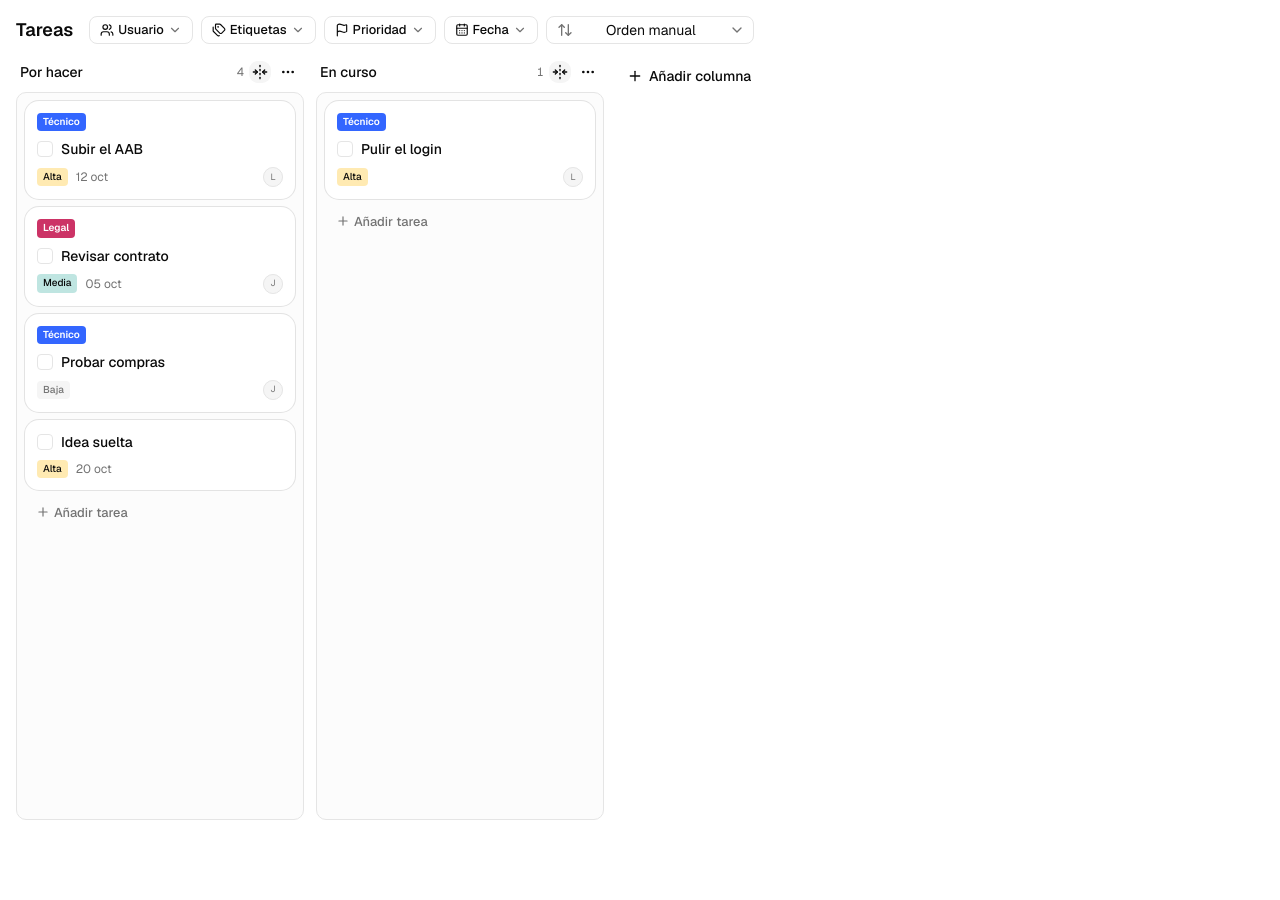
it: TaskBoard: filtros y orden › filtra por usuario, actualiza los contadores y escribe la URL
The width and height of the screenshot is (1280, 900).
Click the button "Usuario" at point(141, 30), box 89,16 -> 193,44
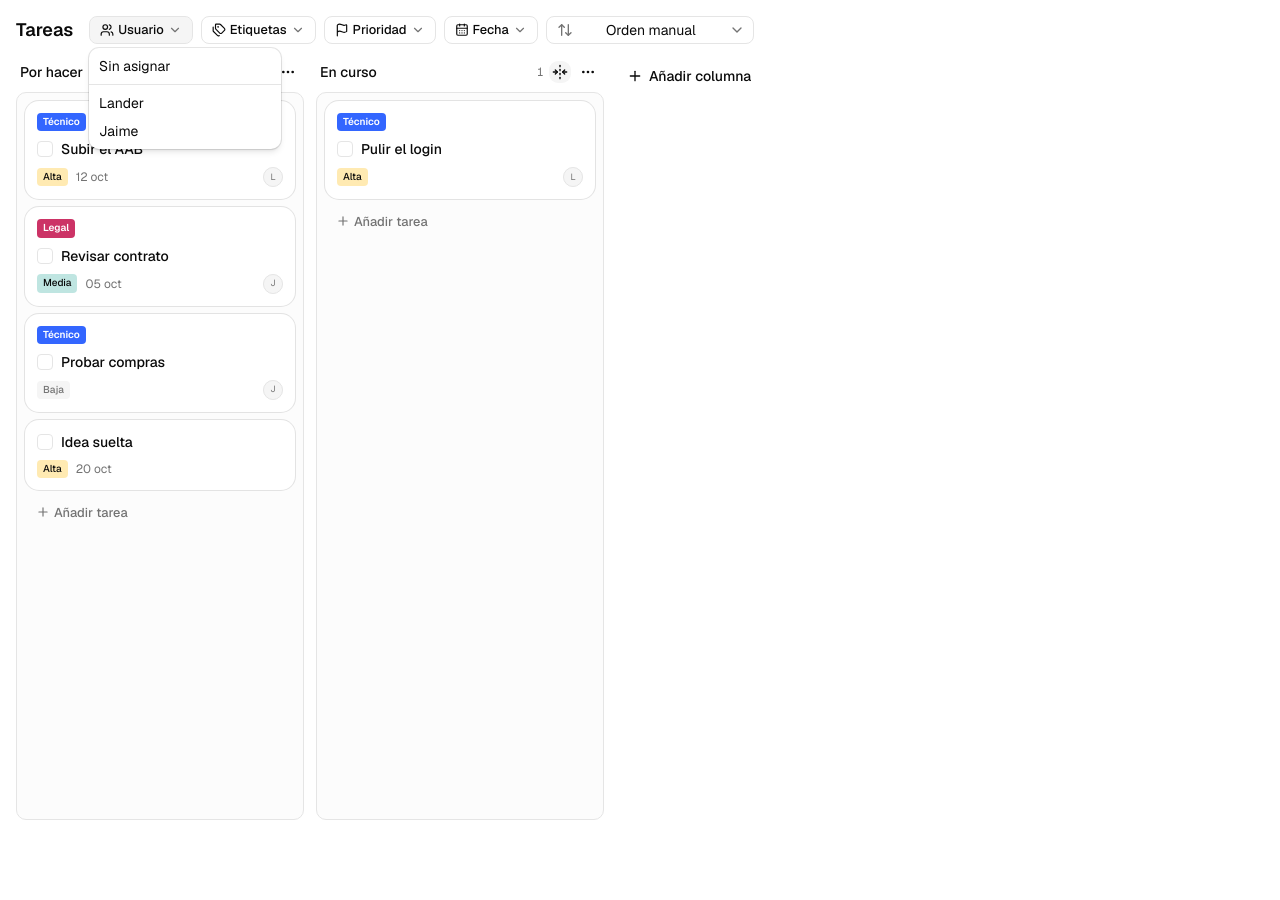
Click the menu item "Jaime" at point(119, 131), box 99,122 -> 138,140
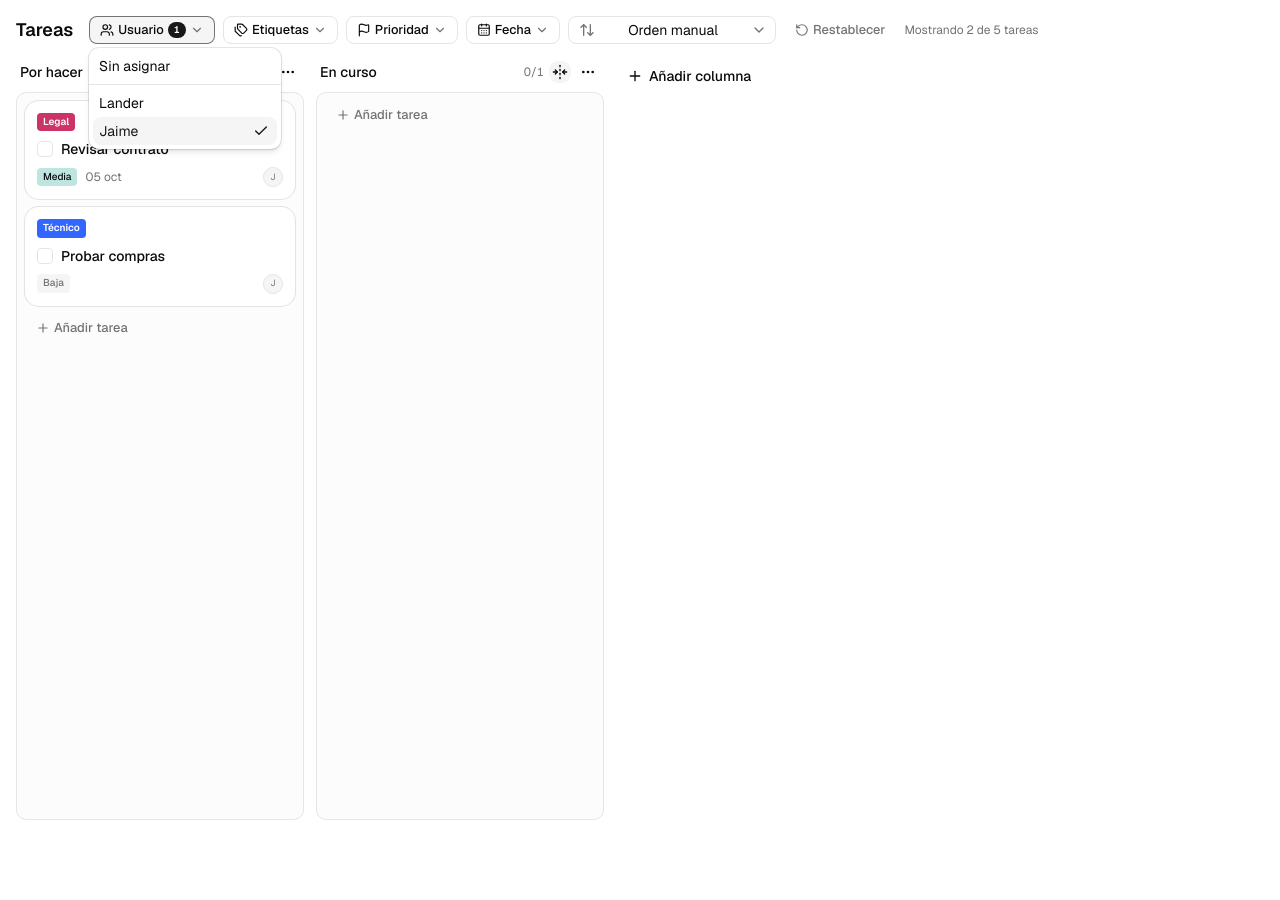
Result: the text "Mostrando 2 de 5 tareas" is shown at 904,22 -> 1038,38
Result: the text "0/1" is shown at 524,64 -> 544,80
